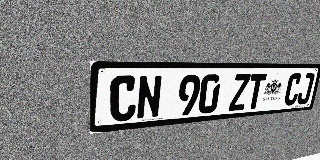0: (197, 74, 221, 114)
9: (177, 74, 202, 116)
C: (109, 75, 137, 122), (283, 73, 303, 106)
J: (296, 73, 315, 105)
N: (136, 75, 163, 120)
T: (245, 74, 267, 110)
Z: (228, 74, 251, 111)
